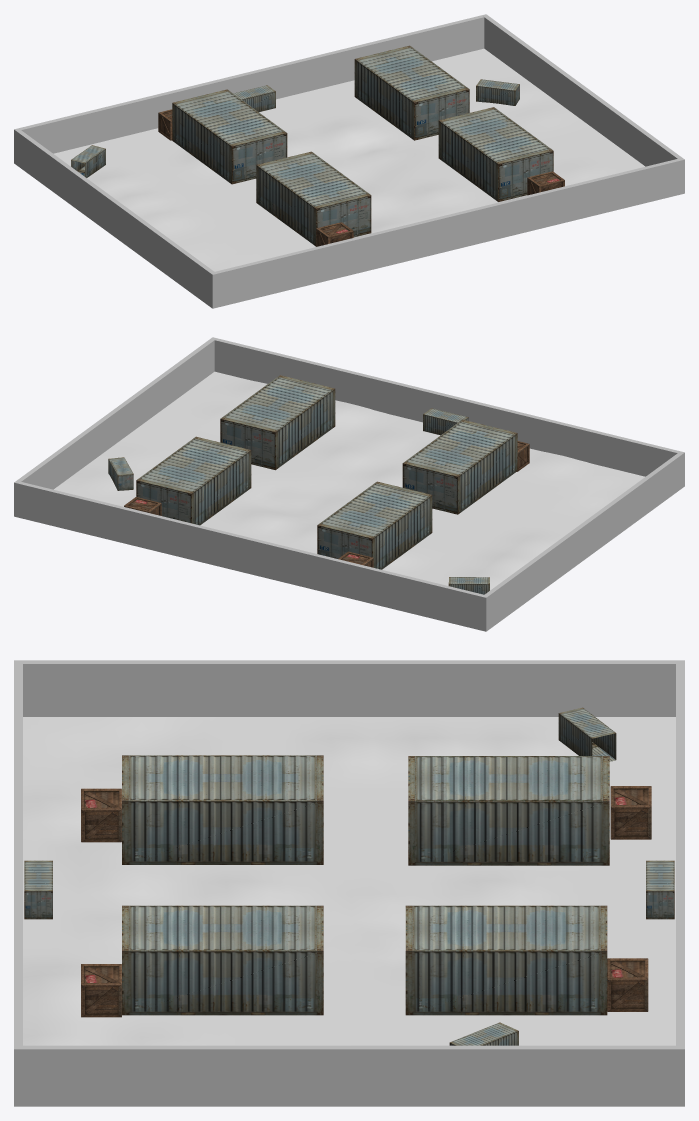
File: map.fbx
3 views of the same model, one above another, from view 1: azimuth 30°, elevation 25°; view 2: azimuth 150°, elevation 25°; view 3: azimuth 270°, elevation 25° (orthographic). The views are drawn at different scales.
Visible parts, largest first — view 1: Cube.005, Plane, Box001.007, Box001.001, Box001.005, Box001.006, Box001.003, Box001.004, Box001.002, Old Crate.004, Old Crate.002; view 2: Cube.005, Plane, Box001.006, Box001.005, Box001.001, Box001.007, Box001, Box001.003, Box001.004; view 3: Plane, Cube.005, Box001.001, Box001.005, Box001.006, Box001.007, Old Crate.003, Old Crate.005, Old Crate.004, Box001.004, Old Crate.002, Box001 (+2 smaller).
Boxes of the visible parts, left/top/right/bottom form: Cube.005: left=14, top=14, right=684, bottom=308; Plane: left=53, top=48, right=644, bottom=271; Box001.007: left=172, top=89, right=287, bottom=184; Box001.001: left=354, top=45, right=469, bottom=140; Box001.005: left=438, top=107, right=553, bottom=201; Box001.006: left=256, top=151, right=371, bottom=246; Box001.003: left=476, top=79, right=519, bottom=105; Box001.004: left=71, top=145, right=105, bottom=177; Box001.002: left=233, top=85, right=275, bottom=111; Old Crate.004: left=316, top=222, right=353, bottom=246; Old Crate.002: left=527, top=171, right=564, bottom=195; Cube.005: left=14, top=337, right=684, bottom=631; Plane: left=54, top=371, right=645, bottom=590; Box001.006: left=402, top=419, right=517, bottom=514; Box001.005: left=220, top=375, right=335, bottom=470; Box001.001: left=136, top=436, right=251, bottom=525; Box001.007: left=317, top=481, right=432, bottom=569; Box001: left=423, top=408, right=468, bottom=435; Box001.003: left=108, top=457, right=133, bottom=490; Box001.004: left=448, top=577, right=489, bottom=594; Plane: left=23, top=717, right=675, bottom=1045; Cube.005: left=14, top=660, right=684, bottom=1106; Box001.001: left=405, top=905, right=607, bottom=1015; Box001.005: left=122, top=905, right=323, bottom=1015; Box001.006: left=122, top=755, right=323, bottom=864; Box001.007: left=408, top=756, right=609, bottom=865; Old Crate.003: left=607, top=958, right=648, bottom=1011; Old Crate.005: left=610, top=786, right=651, bottom=839; Old Crate.004: left=81, top=788, right=121, bottom=842; Box001.004: left=558, top=707, right=616, bottom=761; Old Crate.002: left=81, top=964, right=121, bottom=1017; Box001: left=24, top=860, right=52, bottom=919.
Bounding box in the file's own units: 2911 × 257 × 2121.
